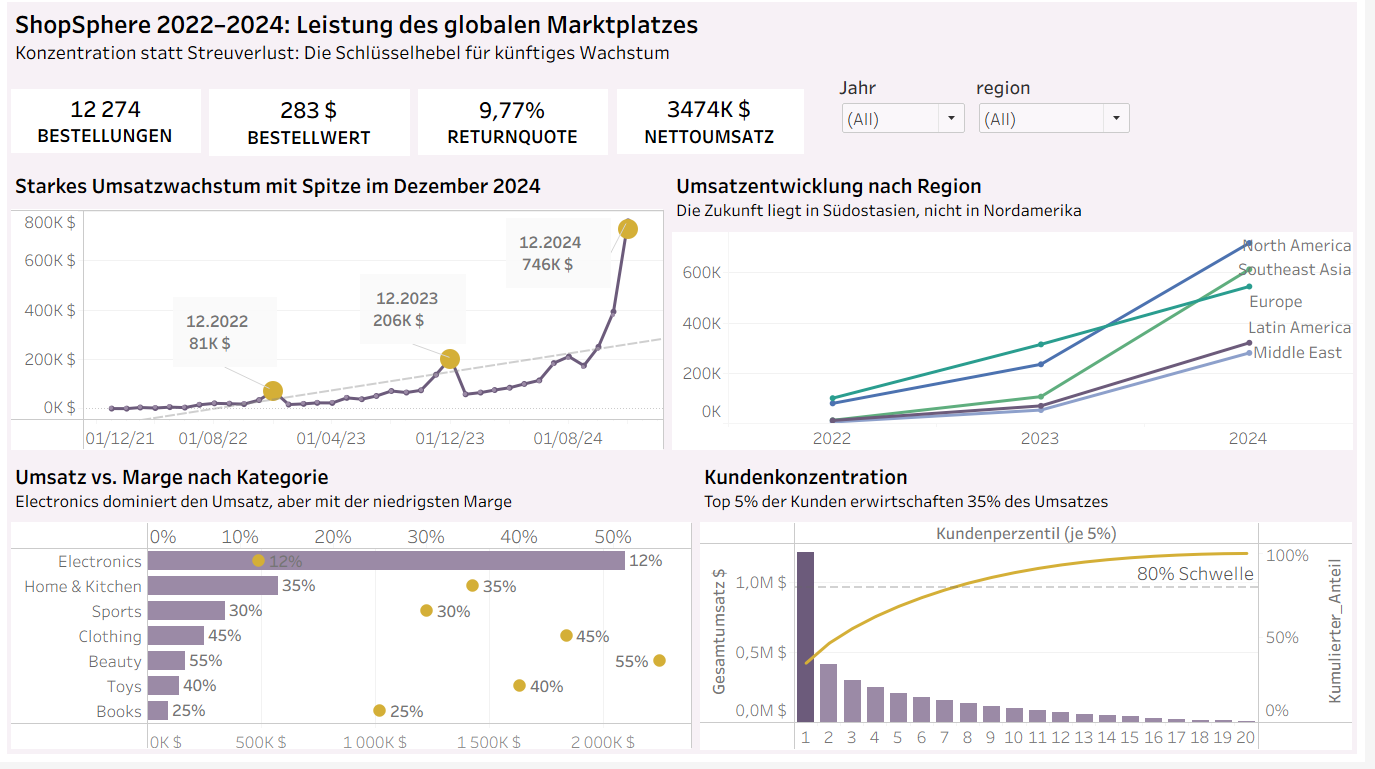

The dashboard page shown, as its layout file describes it:
{"tool":"tableau","page":{"name":"CEO_Dashboard","canvas":[1366,768],"ordinal":0},"visuals":[{"type":"text","box":[8,8,1350,68]},{"type":"worksheet","title":"KPI_Orders","mark":"Automatic","box":[8,76,198,93]},{"type":"worksheet","title":"KPI_AVG","mark":"Automatic","box":[206,76,209,93]},{"type":"worksheet","title":"KPI_RR","mark":"Automatic","box":[415,76,199,93]},{"type":"worksheet","title":"KPI_Revenue","mark":"Automatic","box":[614,76,222,93]},{"type":"filter","title":"Regionen_Trend","param":"[federated.0qwvyr50piz0yi10odvf11nhx4iq].[none:order_year:ok]","box":[836,76,137,93]},{"type":"filter","title":"Regionen_Trend","param":"[federated.0qwvyr50piz0yi10odvf11nhx4iq].[none:region:nk]","box":[973,76,165,93]},{"type":"worksheet","title":"Umsatzentwicklung nach Monat (2022–2024)","mark":"Line","rows":["total_revenue","total_revenue"],"cols":["Calculation_1445057747787776"],"box":[8,169,661,291]},{"type":"worksheet","title":"Regionen_Trend","mark":"Line","rows":["total_net_revenue"],"cols":["order_year"],"box":[669,169,689,291]},{"type":"worksheet","title":"Mrage nach Kategorie (2)","mark":"Bar","rows":["category"],"cols":["total_revenue","avg_margin_pct"],"box":[8,460,689,300]},{"type":"worksheet","title":"Pareto","mark":"Bar","rows":["bucket_revenue"],"cols":["percentile_bucket"],"box":[697,460,661,300]}]}

Visuals, with their boxes in screenshot pixels (x1, y1, x2, y2), scaled from the page's 1366x768 canvas onto the 1375x769 screenshot:
text: 8:8:1367:76
"KPI_Orders" worksheet: 8:76:207:169
"KPI_AVG" worksheet: 207:76:418:169
"KPI_RR" worksheet: 418:76:618:169
"KPI_Revenue" worksheet: 618:76:842:169
"Regionen_Trend" filter: 842:76:979:169
"Regionen_Trend" filter: 979:76:1145:169
"Umsatzentwicklung nach Monat (2022–2024)" worksheet (Line marks): 8:169:673:461
"Regionen_Trend" worksheet (Line marks): 673:169:1367:461
"Mrage nach Kategorie (2)" worksheet (Bar marks): 8:461:702:761
"Pareto" worksheet (Bar marks): 702:461:1367:761
